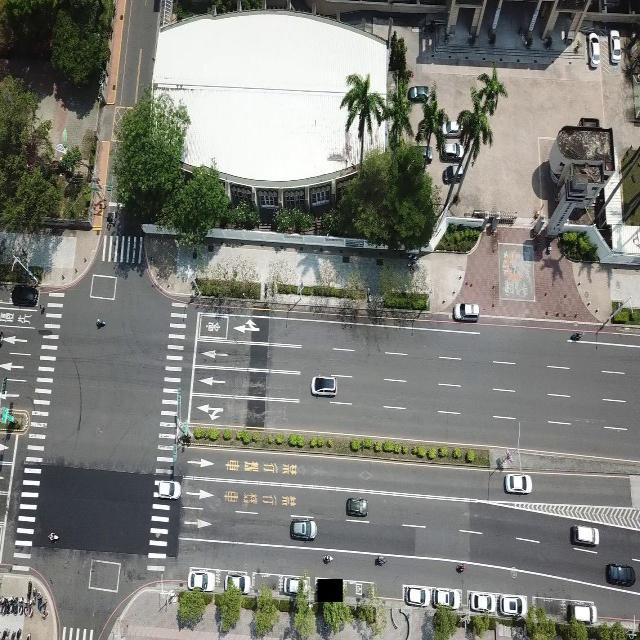bike: (454, 558, 469, 578), (94, 312, 108, 333), (570, 328, 585, 347), (46, 526, 60, 546), (373, 552, 388, 569), (319, 548, 333, 566)
car: (283, 570, 311, 601), (566, 601, 597, 625), (289, 516, 317, 541), (605, 563, 635, 586), (187, 568, 215, 592), (570, 524, 599, 547), (587, 27, 602, 71), (224, 572, 251, 595), (10, 283, 38, 305), (498, 596, 528, 616), (310, 375, 337, 397), (402, 586, 429, 608), (504, 473, 532, 494), (608, 26, 622, 68), (432, 587, 462, 606), (467, 594, 496, 613), (452, 302, 479, 322), (346, 496, 368, 517), (157, 480, 180, 500), (442, 163, 463, 184), (442, 141, 463, 161), (441, 119, 462, 138), (406, 85, 429, 102), (0, 406, 16, 427)
